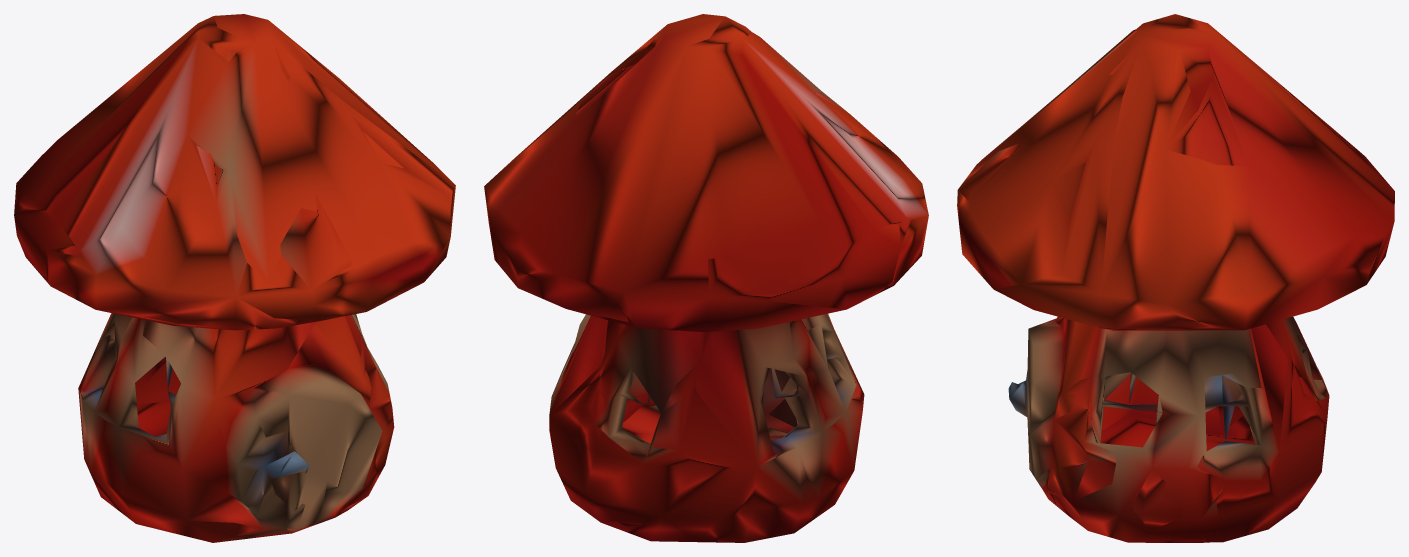
Rendered from gen3d-toadstool-house-lod1.glb.
The picture shows the model from 3 angles, left to right: view 1: azimuth 30°, elevation 25°; view 2: azimuth 150°, elevation 25°; view 3: azimuth 270°, elevation 25°; orthographic projection.
Parts seen in each view (by area): view 1: part_0; view 2: part_0; view 3: part_0.
Boxes of the visible parts, box(x1,y1,x2,y2) form: part_0: box(14, 14, 455, 542); part_0: box(484, 14, 928, 542); part_0: box(957, 14, 1394, 542).
Bounding box in the file's own units: 0.874 × 0.9977 × 0.8626.
